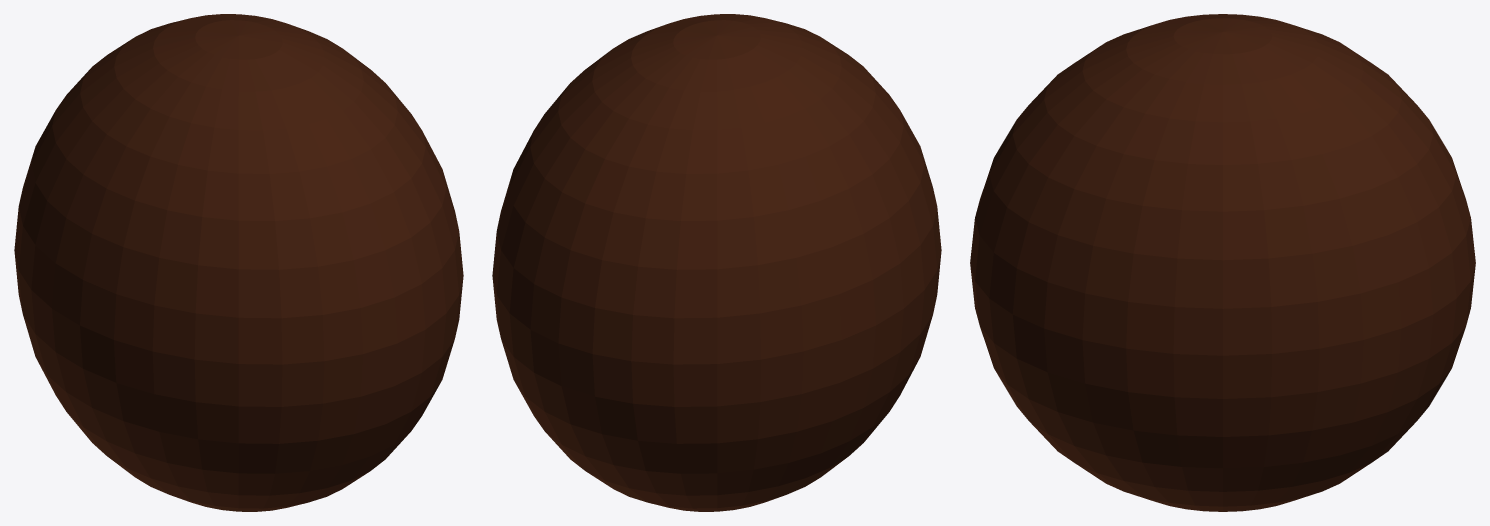
Rendered from BugBosta (2).dae.
3 renders of one model, left to right at view 1: azimuth 30°, elevation 25°; view 2: azimuth 150°, elevation 25°; view 3: azimuth 270°, elevation 25°, orthographic.
Visible parts, largest first — view 1: Sphere; view 2: Sphere; view 3: Sphere.
Part boxes in pixels (x1=…): Sphere: x1=14, y1=14, x2=463, y2=511; Sphere: x1=492, y1=14, x2=941, y2=511; Sphere: x1=970, y1=14, x2=1475, y2=511.
Bounding box in the file's own units: 4.19 × 4.83 × 4.87.
